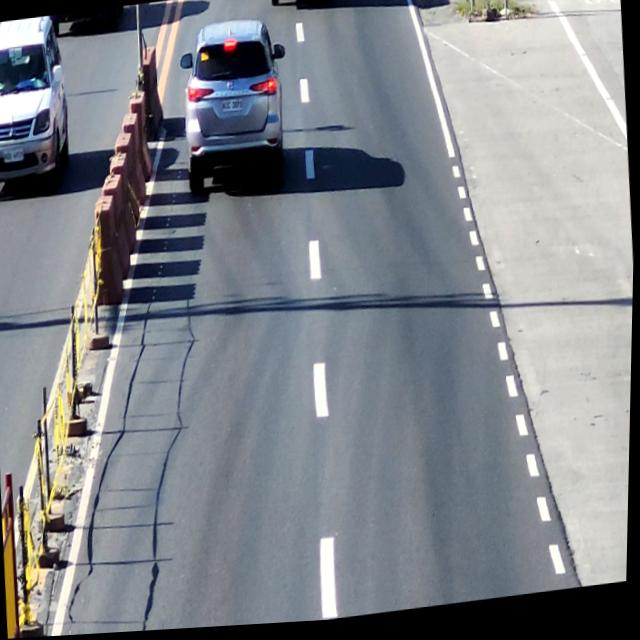Car: (176, 17, 293, 201)
License-Plate: (220, 95, 245, 117)
